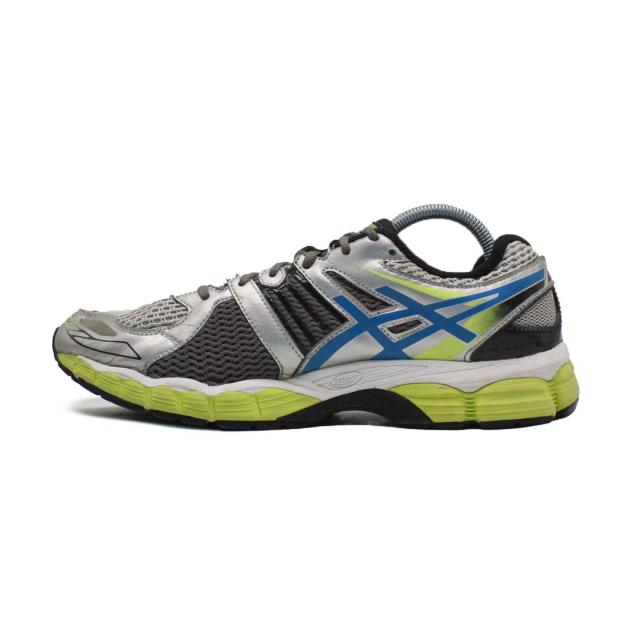heel: (498, 236, 561, 358)
midsole: (56, 346, 580, 430)
uppersole: (58, 222, 509, 385)
